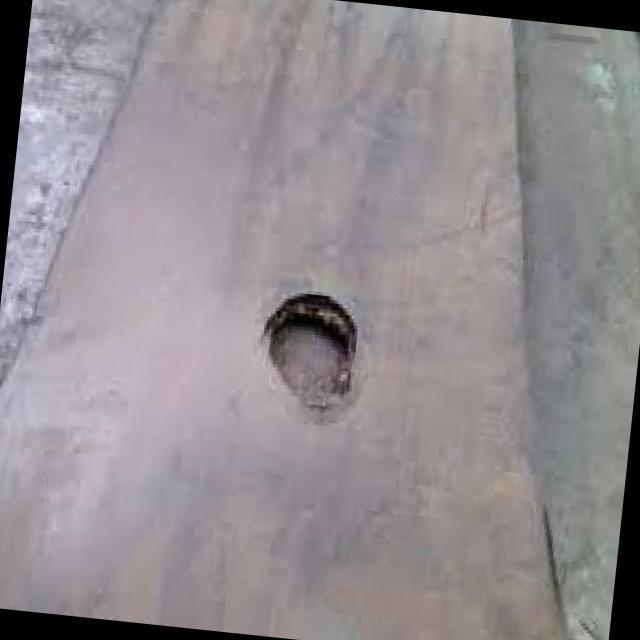Hole: (258, 286, 366, 428)
